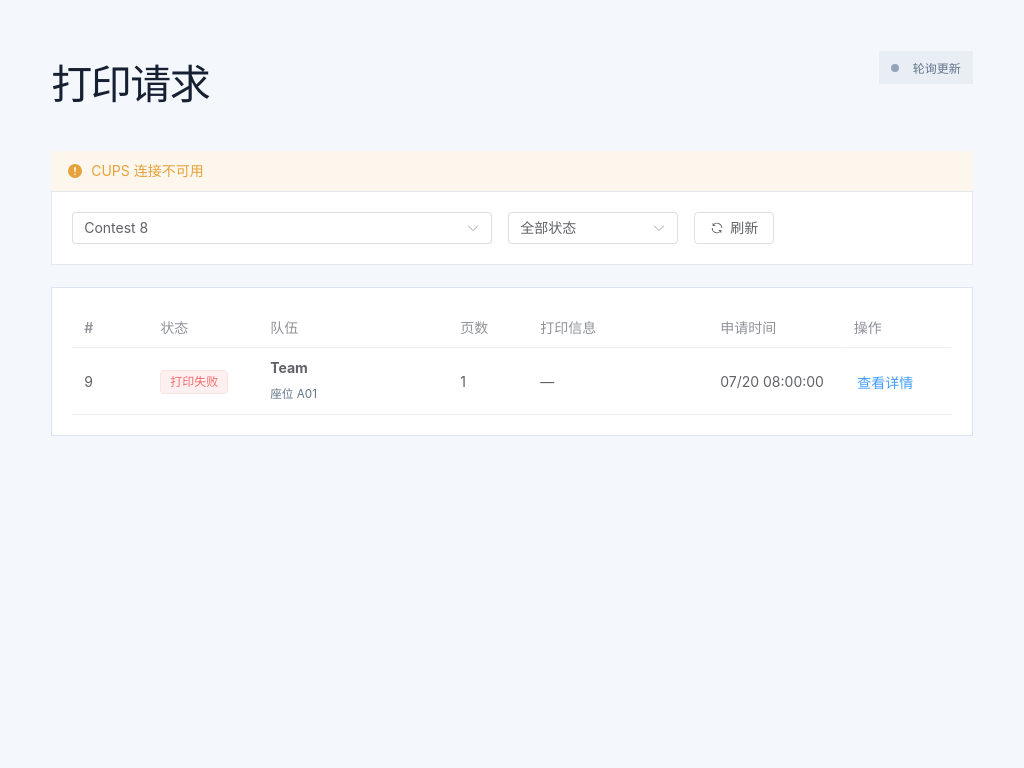
PrinterRequestsView › warns when a successful mutation cannot refresh the queue
The width and height of the screenshot is (1024, 768).
Click the row "9 打印失败 Team 座位 A01 1 — 07/20 08:00:00 查看详情". click: (530, 382)
box: 72,348 -> 988,415
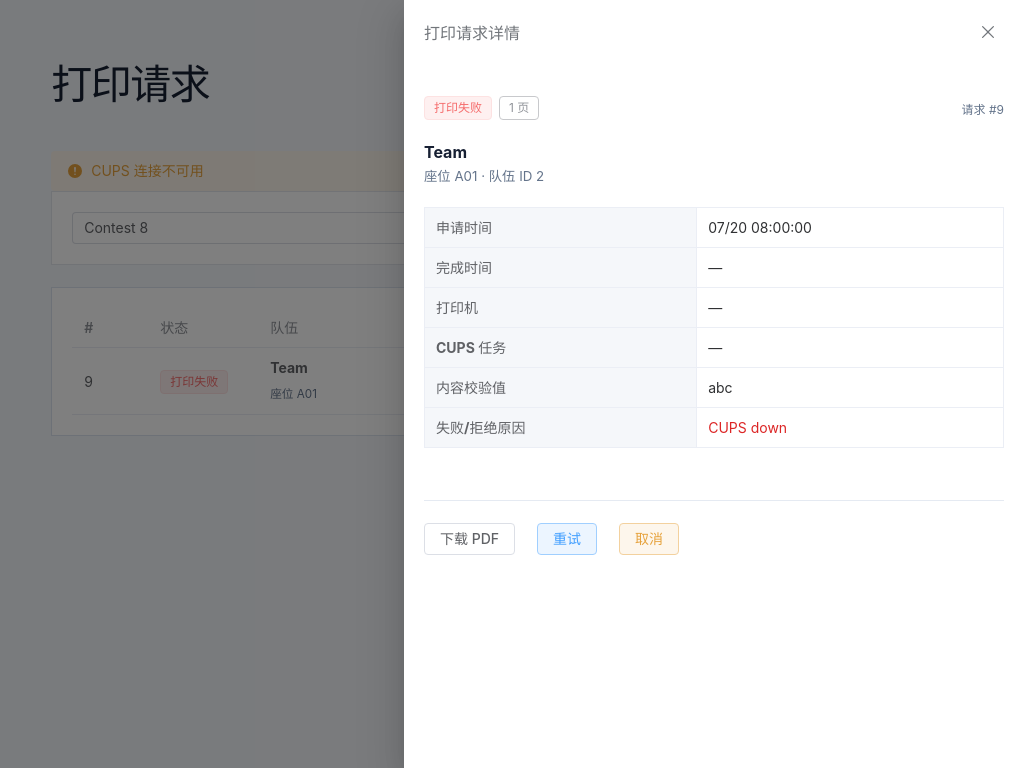
Click the button "重试". click: (567, 539)
box: 537,523 -> 597,555
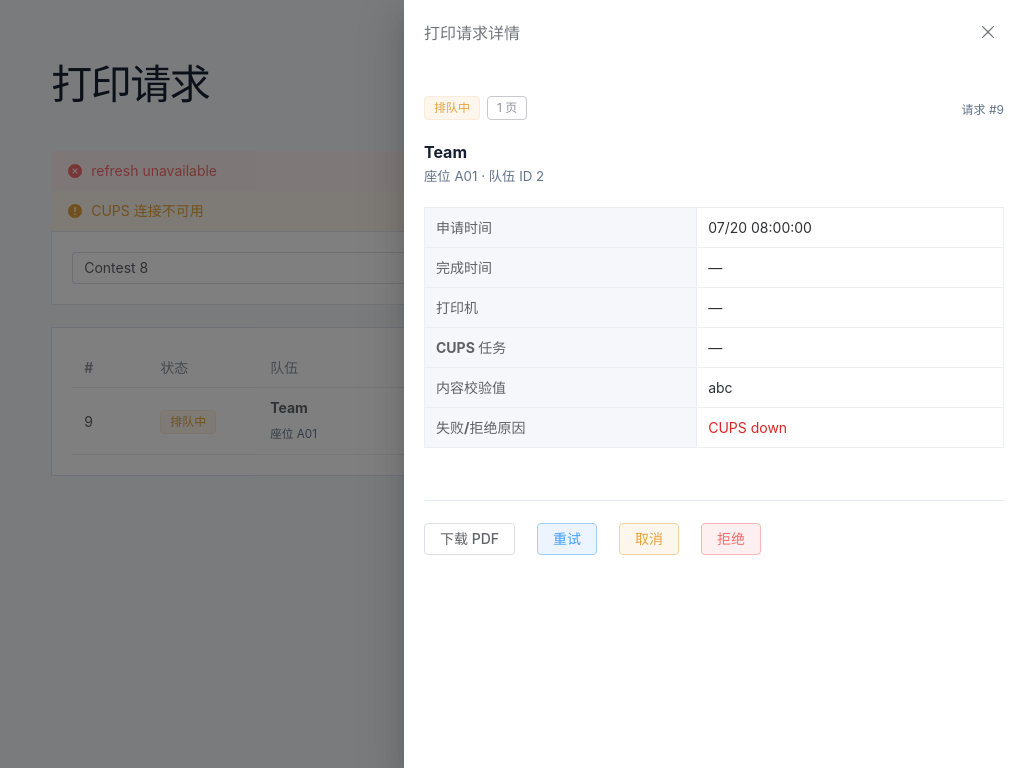
Now the text "refresh unavailable" is shown, box 91,159 -> 217,183
